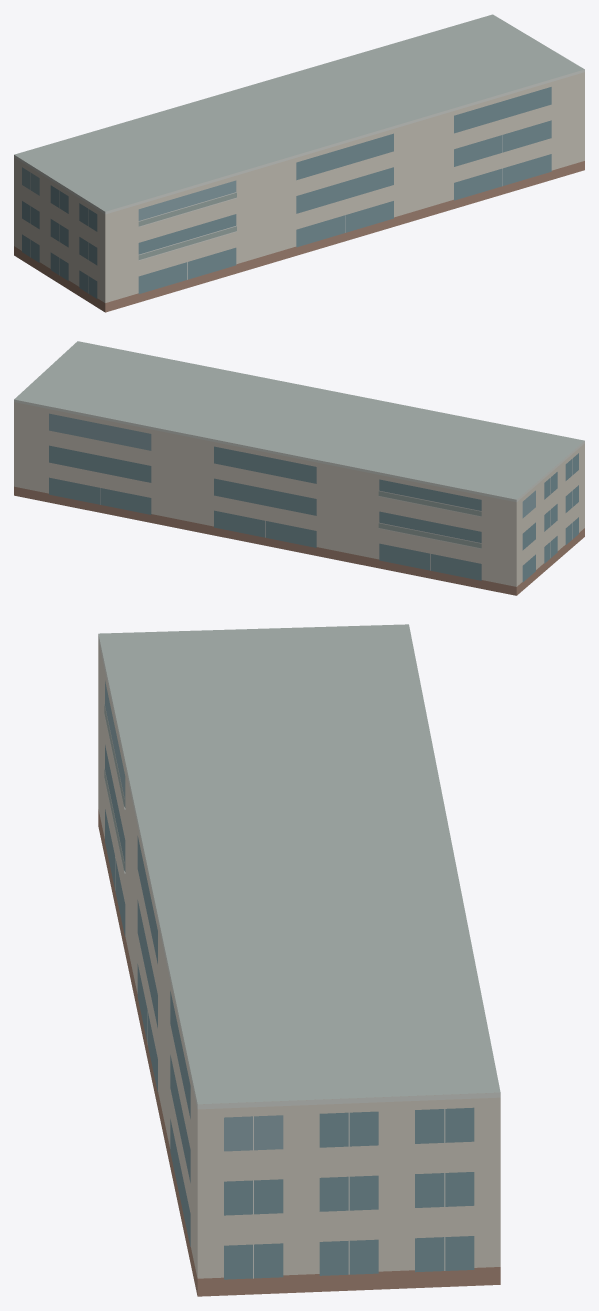
The model's file is survey-upis-32632703.glb.
The picture shows the model from 3 angles, top to bottom: view 1: azimuth 30°, elevation 25°; view 2: azimuth 150°, elevation 25°; view 3: azimuth 270°, elevation 25°; orthographic projection. The views are drawn at different scales.
Parts seen in each view (by area): view 1: survey-upis-32632703.tmp; view 2: survey-upis-32632703.tmp; view 3: survey-upis-32632703.tmp.
Boxes of the visible parts, box(x1,y1,x2,y2) form: survey-upis-32632703.tmp: box(14, 14, 584, 312); survey-upis-32632703.tmp: box(14, 341, 584, 595); survey-upis-32632703.tmp: box(98, 624, 500, 1296).
Size of the model in its own units: 49.01 by 9.15 by 17.36.
